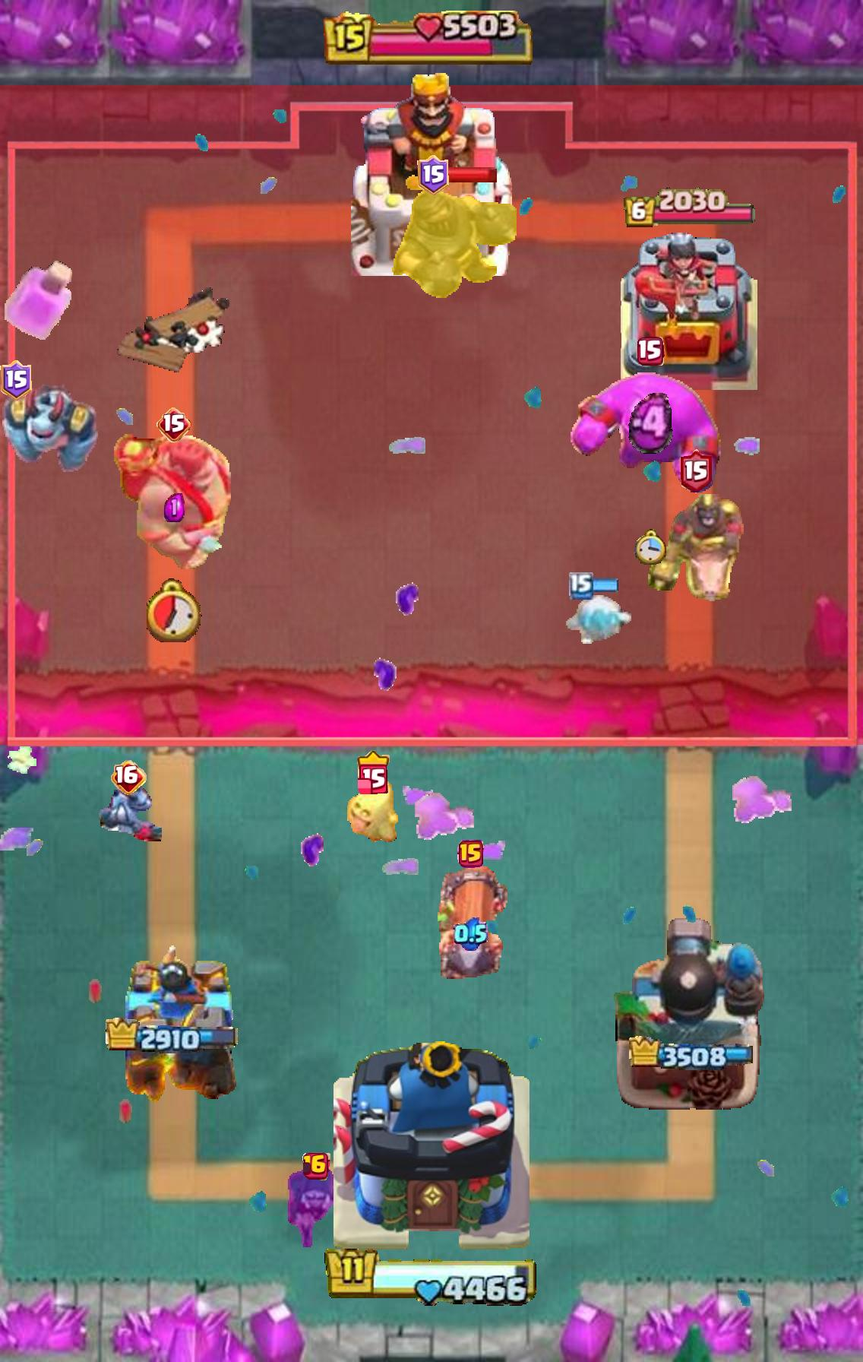bar: (446, 166, 498, 183)
bar-level: (357, 750, 390, 794), (680, 449, 712, 493), (417, 155, 449, 195), (0, 360, 32, 400), (111, 760, 147, 795), (156, 407, 191, 442), (636, 337, 664, 366), (302, 1152, 330, 1180), (458, 840, 484, 868)
